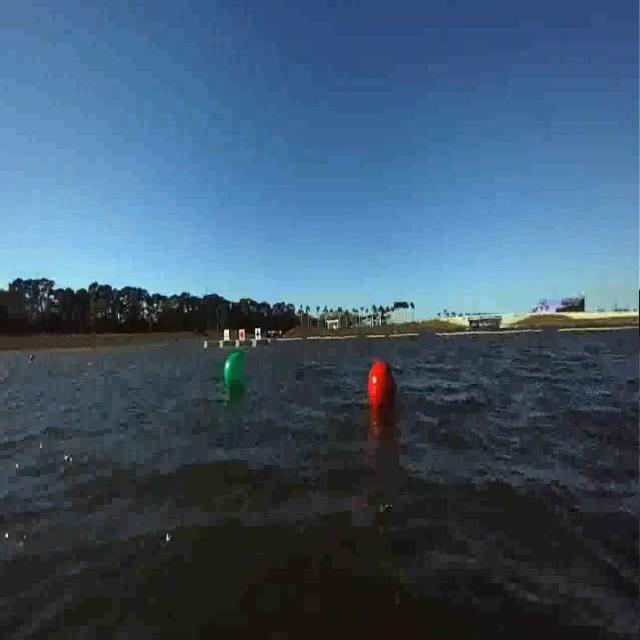green-buoy: (225, 350, 248, 388)
red-buoy: (370, 361, 397, 410)
